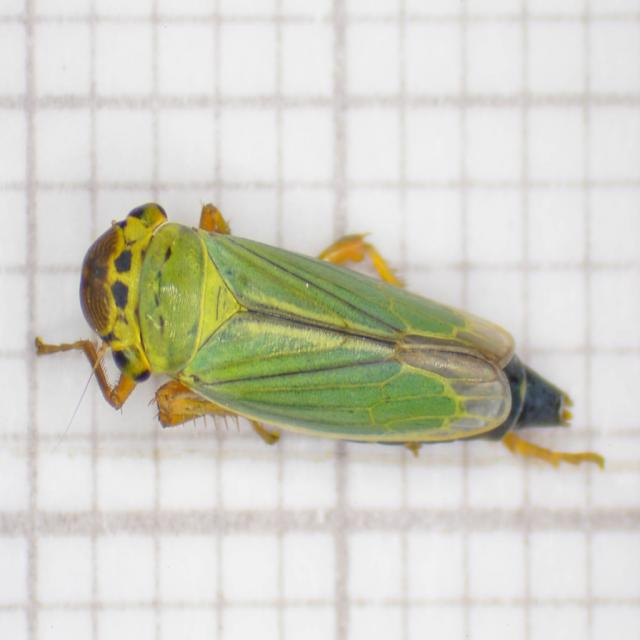Yechan: (55, 190, 587, 478)
